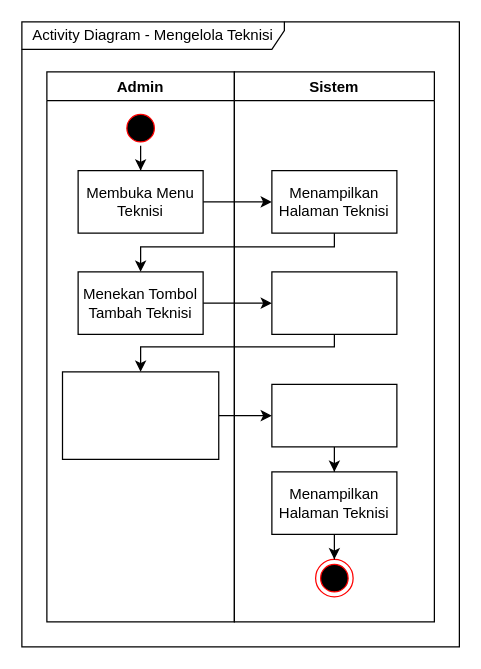
This 481x669 diagram has some shape labels left out. The shapes that lost their labels are listed below. From the top down, each one's centre as x and y in pixels, then its label:
At (334,302): "Menampilkan Form Tambah Teknisi".
At (140,415): "Mengisi Input Nama, Tanggal Lahir, Jenis Kelamin, No. Telepon, Alamat, Foto".
At (334,415): "Menyimpan Data Teknisi".
